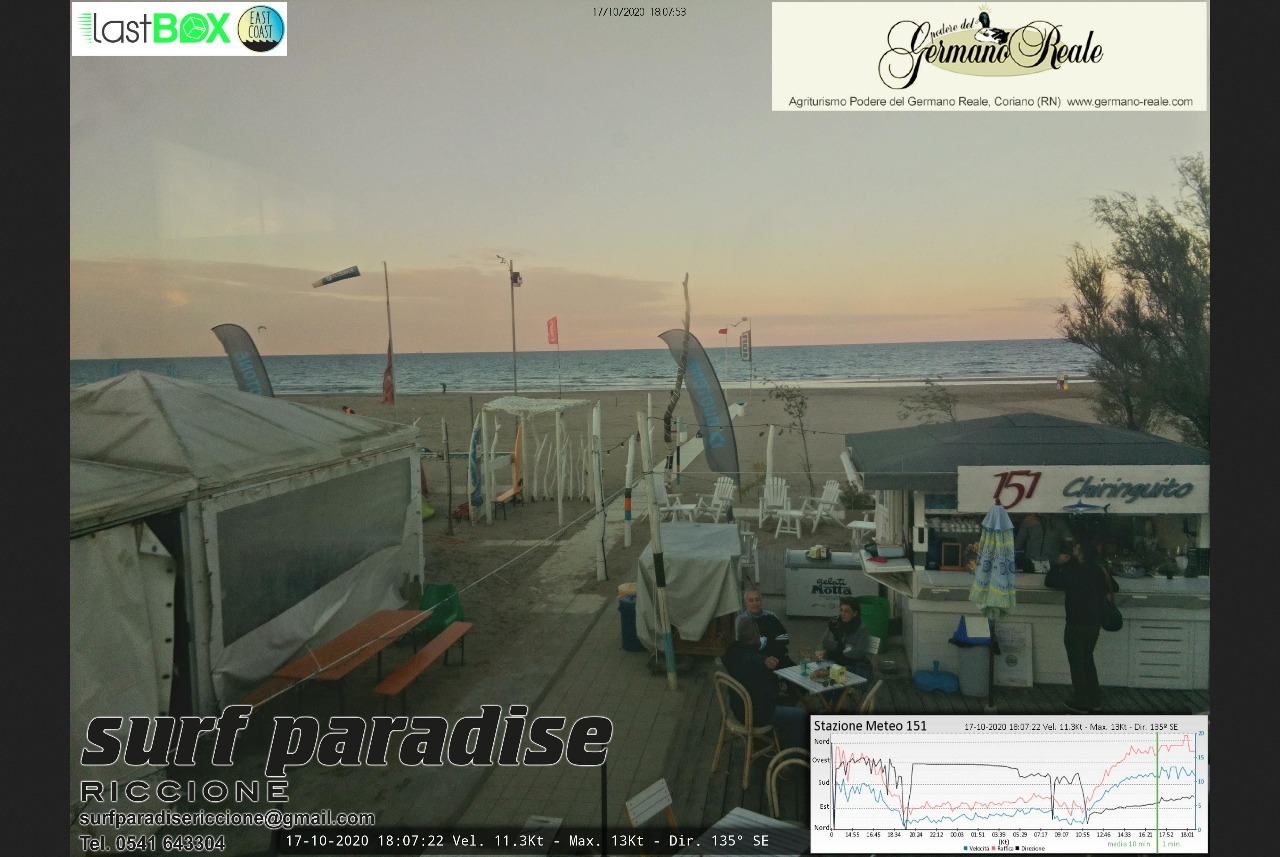yes: (718, 327, 728, 335)
